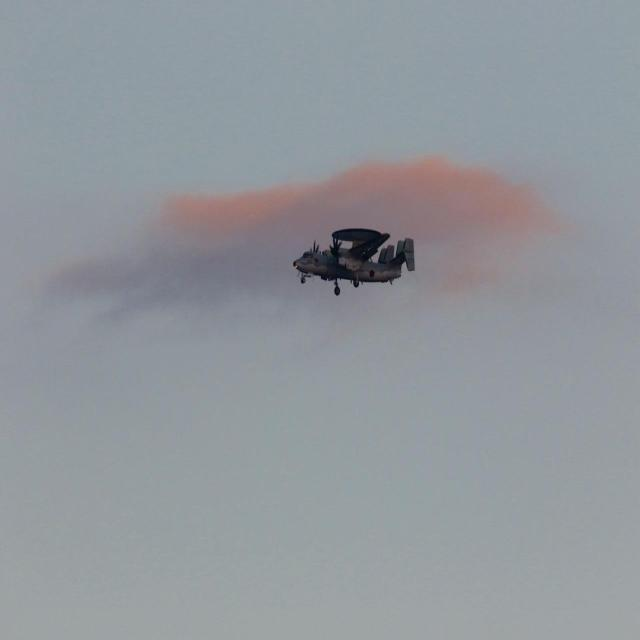MIL_Plane: (318, 227, 389, 296)
